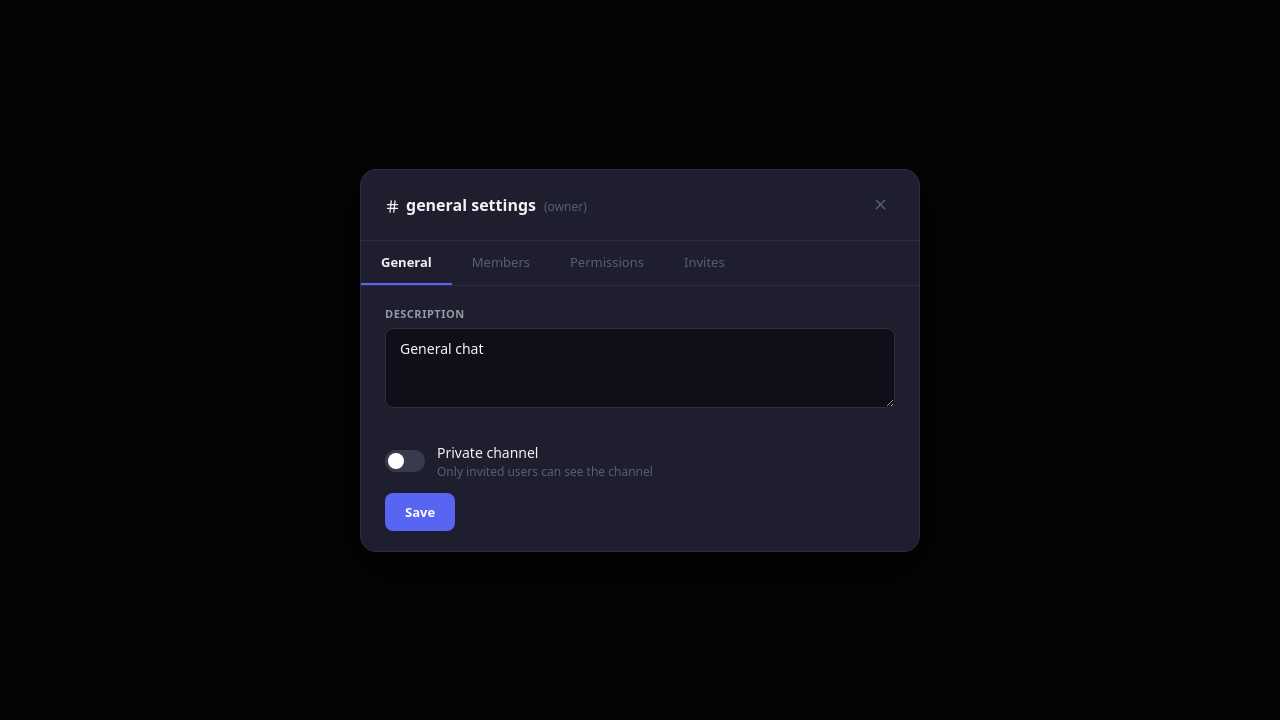
Test: tab switching › clicking Invites tab shows invite list
This screenshot has width=1280, height=720.
Click the button "Invites": (704, 262) x1=664 y1=240 x2=745 y2=284
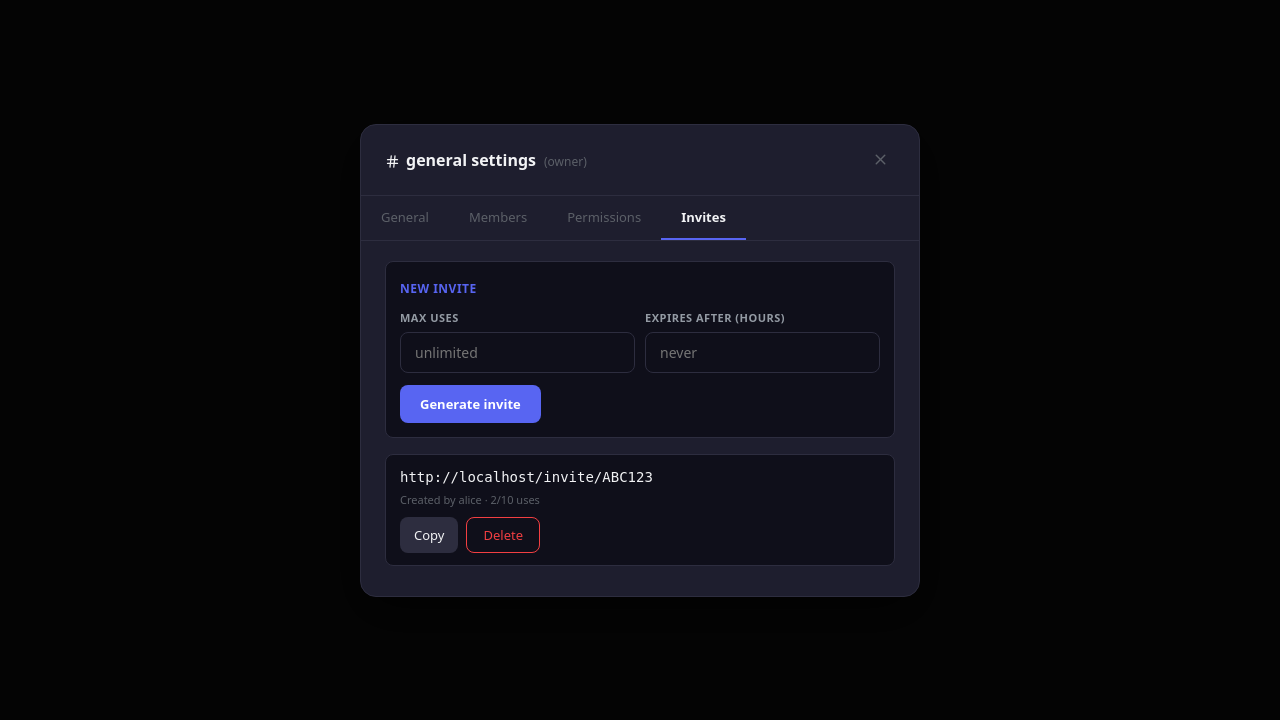
Expected: the text "http://localhost/invite/ABC123" is shown, x1=400 y1=469 x2=653 y2=485
